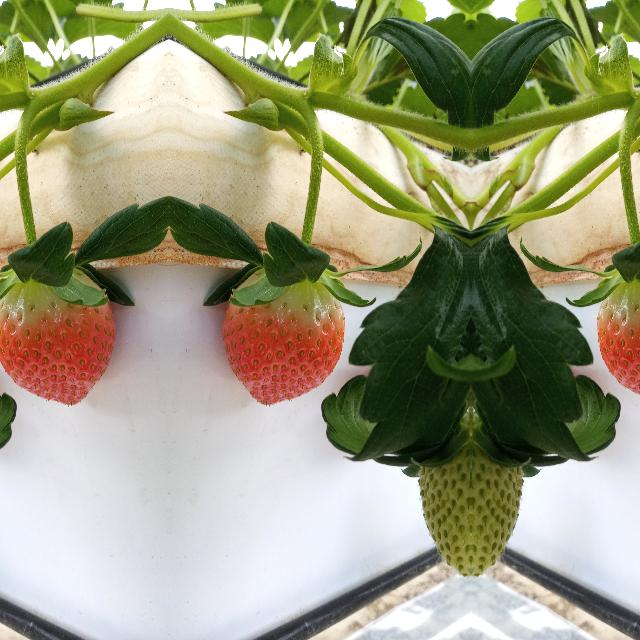Health_75: (220, 281, 344, 407), (0, 281, 116, 407), (597, 281, 640, 407)
